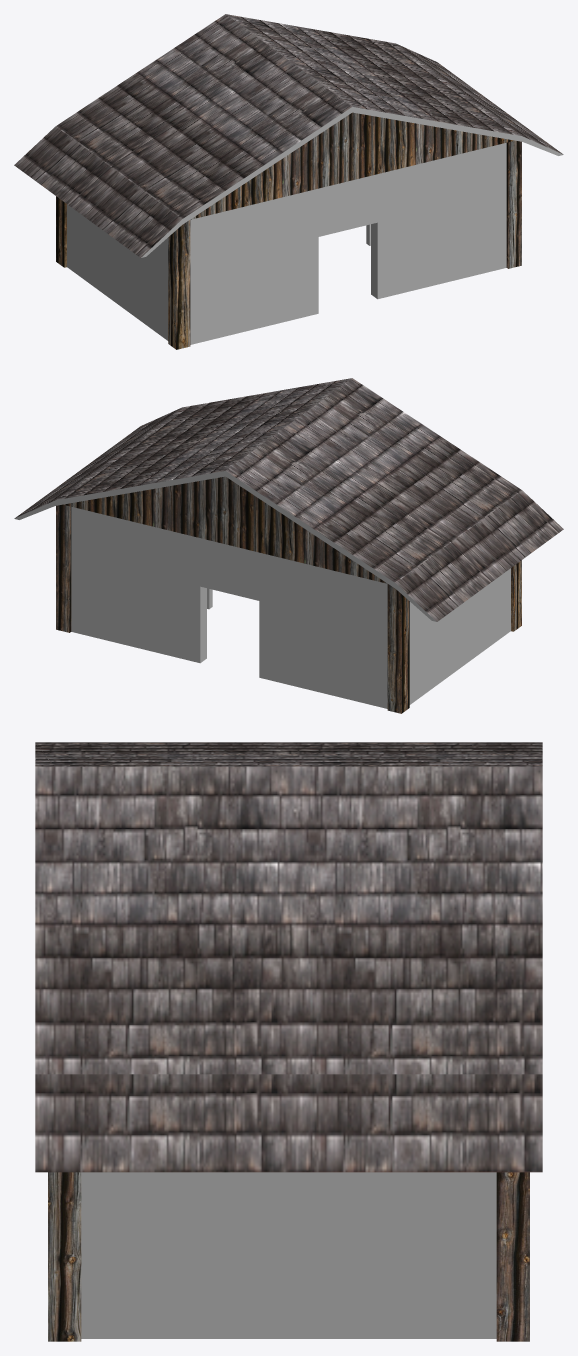
The model's file is Barn.fbx.
3 views of the same model, one above another, from view 1: azimuth 30°, elevation 25°; view 2: azimuth 150°, elevation 25°; view 3: azimuth 270°, elevation 25° (orthographic). The views are drawn at different scales.
Visible parts, largest first — view 1: Barn; view 2: Barn; view 3: Barn.
Part boxes in pixels (<box>): Barn: <box>14,14,563,349</box>; Barn: <box>14,378,563,713</box>; Barn: <box>35,742,542,1341</box>.
Size of the model in its own units: 1563 by 717 by 811.
